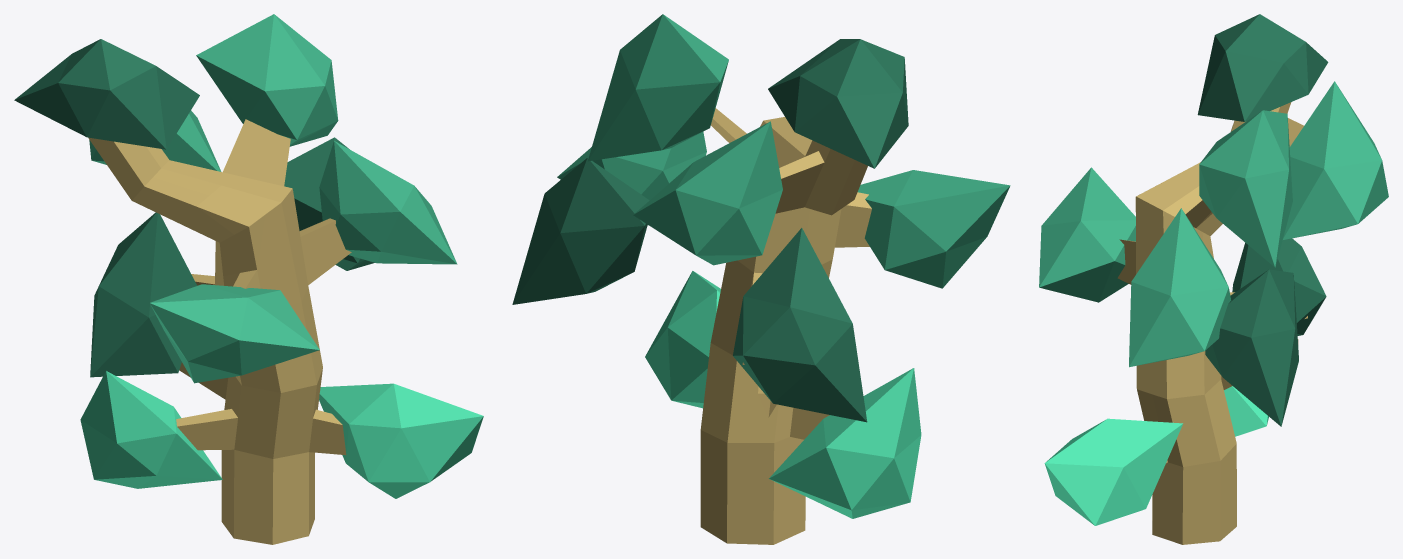
Rendered from tree 2.fbx.
The picture shows the model from 3 angles, left to right: view 1: azimuth 30°, elevation 25°; view 2: azimuth 150°, elevation 25°; view 3: azimuth 270°, elevation 25°; orthographic projection. The views are drawn at different scales.
Visible parts, largest first — view 1: tree 2; view 2: tree 2; view 3: tree 2.
Boxes of the visible parts, box(x1,y1,x2,y2) form: tree 2: box(14, 14, 483, 544); tree 2: box(512, 14, 1010, 544); tree 2: box(1039, 14, 1388, 544).
Bounding box in the file's own units: 841 × 1126 × 788.
